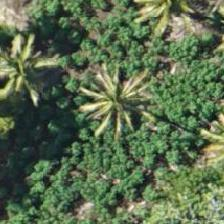coconut_tree: (0, 25, 63, 115)
